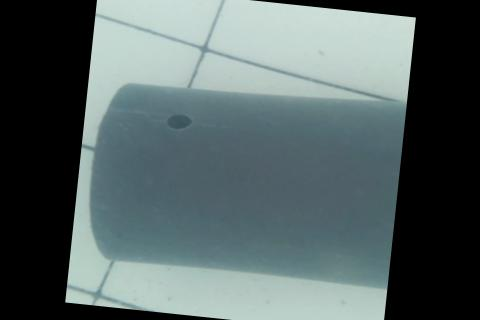kebocoran: (163, 111, 192, 131)
